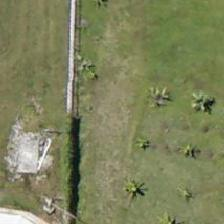coconut_tree: (99, 98, 189, 188), (109, 46, 199, 136), (90, 140, 180, 223), (147, 104, 223, 194), (141, 147, 223, 223), (156, 53, 223, 143), (123, 177, 213, 223)
